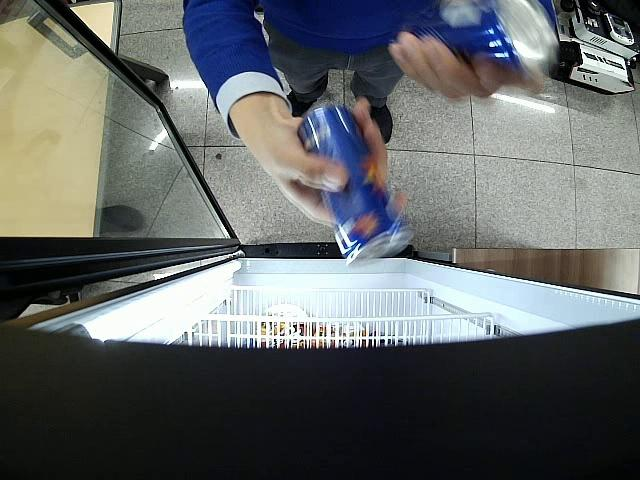00_hand: (234, 99, 408, 227), (389, 31, 548, 102)
16_hot6: (298, 103, 414, 267), (414, 0, 559, 79)
